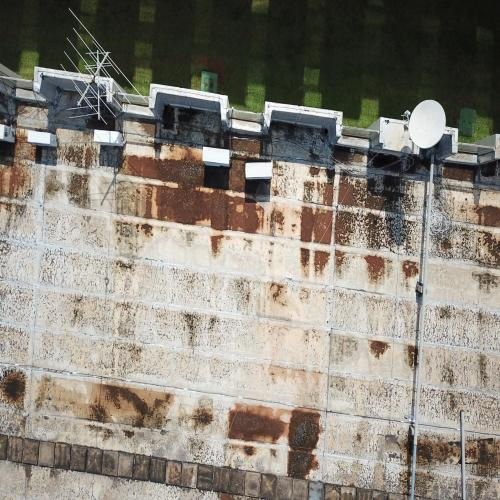conde: (244, 159, 278, 184), (203, 146, 234, 171), (92, 129, 127, 151), (28, 130, 59, 151), (1, 122, 19, 147)
